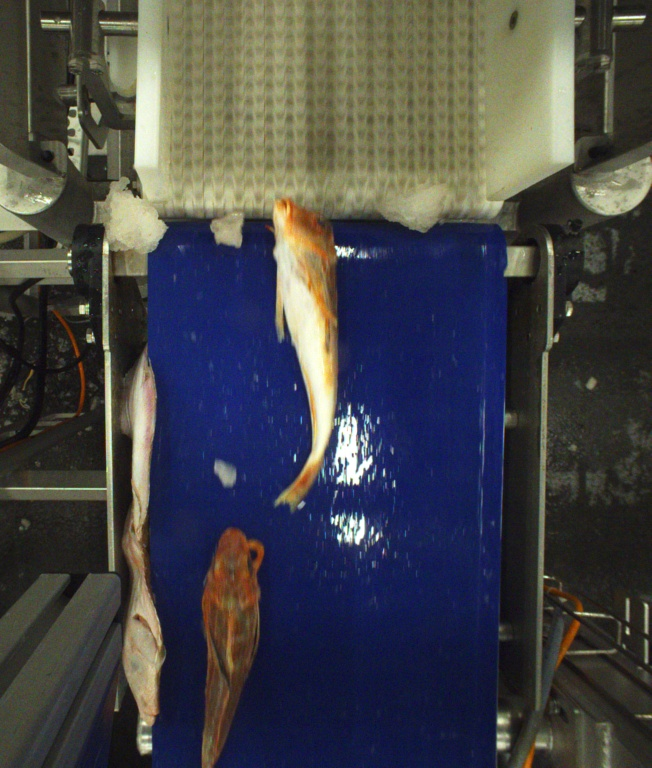GUU: (271, 199, 339, 515)
